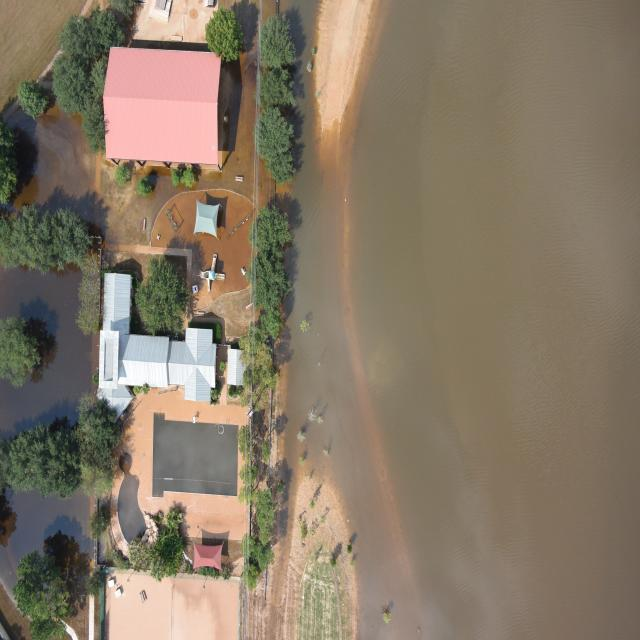fire: (278, 0, 640, 639), (0, 266, 97, 438), (0, 491, 92, 599), (15, 103, 95, 207)
